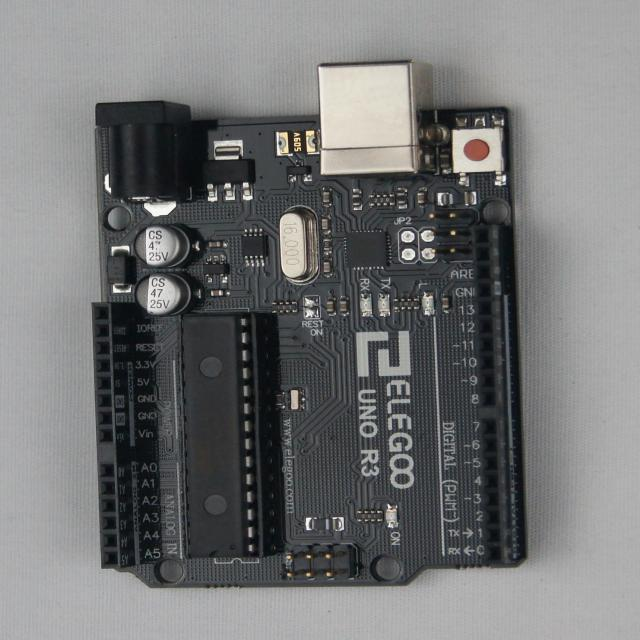Arduino Uno -Black-: (93, 62, 526, 587)
